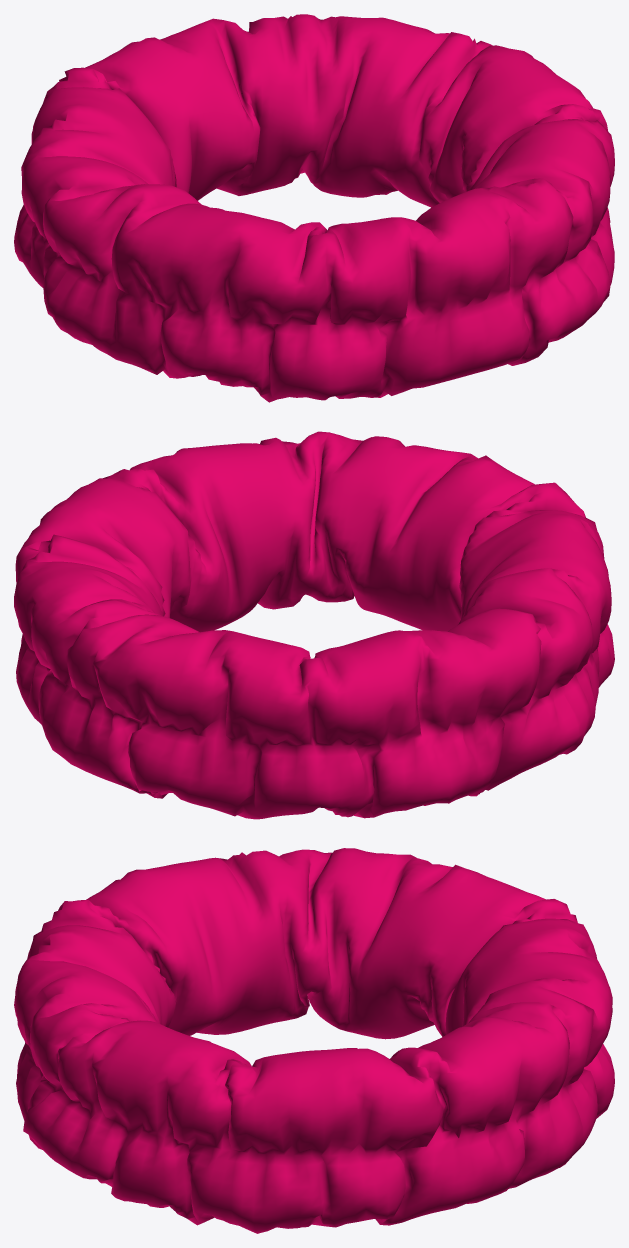
3 renders of one model, top to bottom at view 1: azimuth 30°, elevation 25°; view 2: azimuth 150°, elevation 25°; view 3: azimuth 270°, elevation 25°, orthographic.
Visible parts, largest first — view 1: Torus; view 2: Torus; view 3: Torus.
Part boxes in pixels (bbox=[...]): Torus: bbox=[14, 14, 614, 402]; Torus: bbox=[14, 431, 614, 819]; Torus: bbox=[14, 848, 614, 1233].
Size of the model in its own units: 6.05 by 2 by 6.02.
